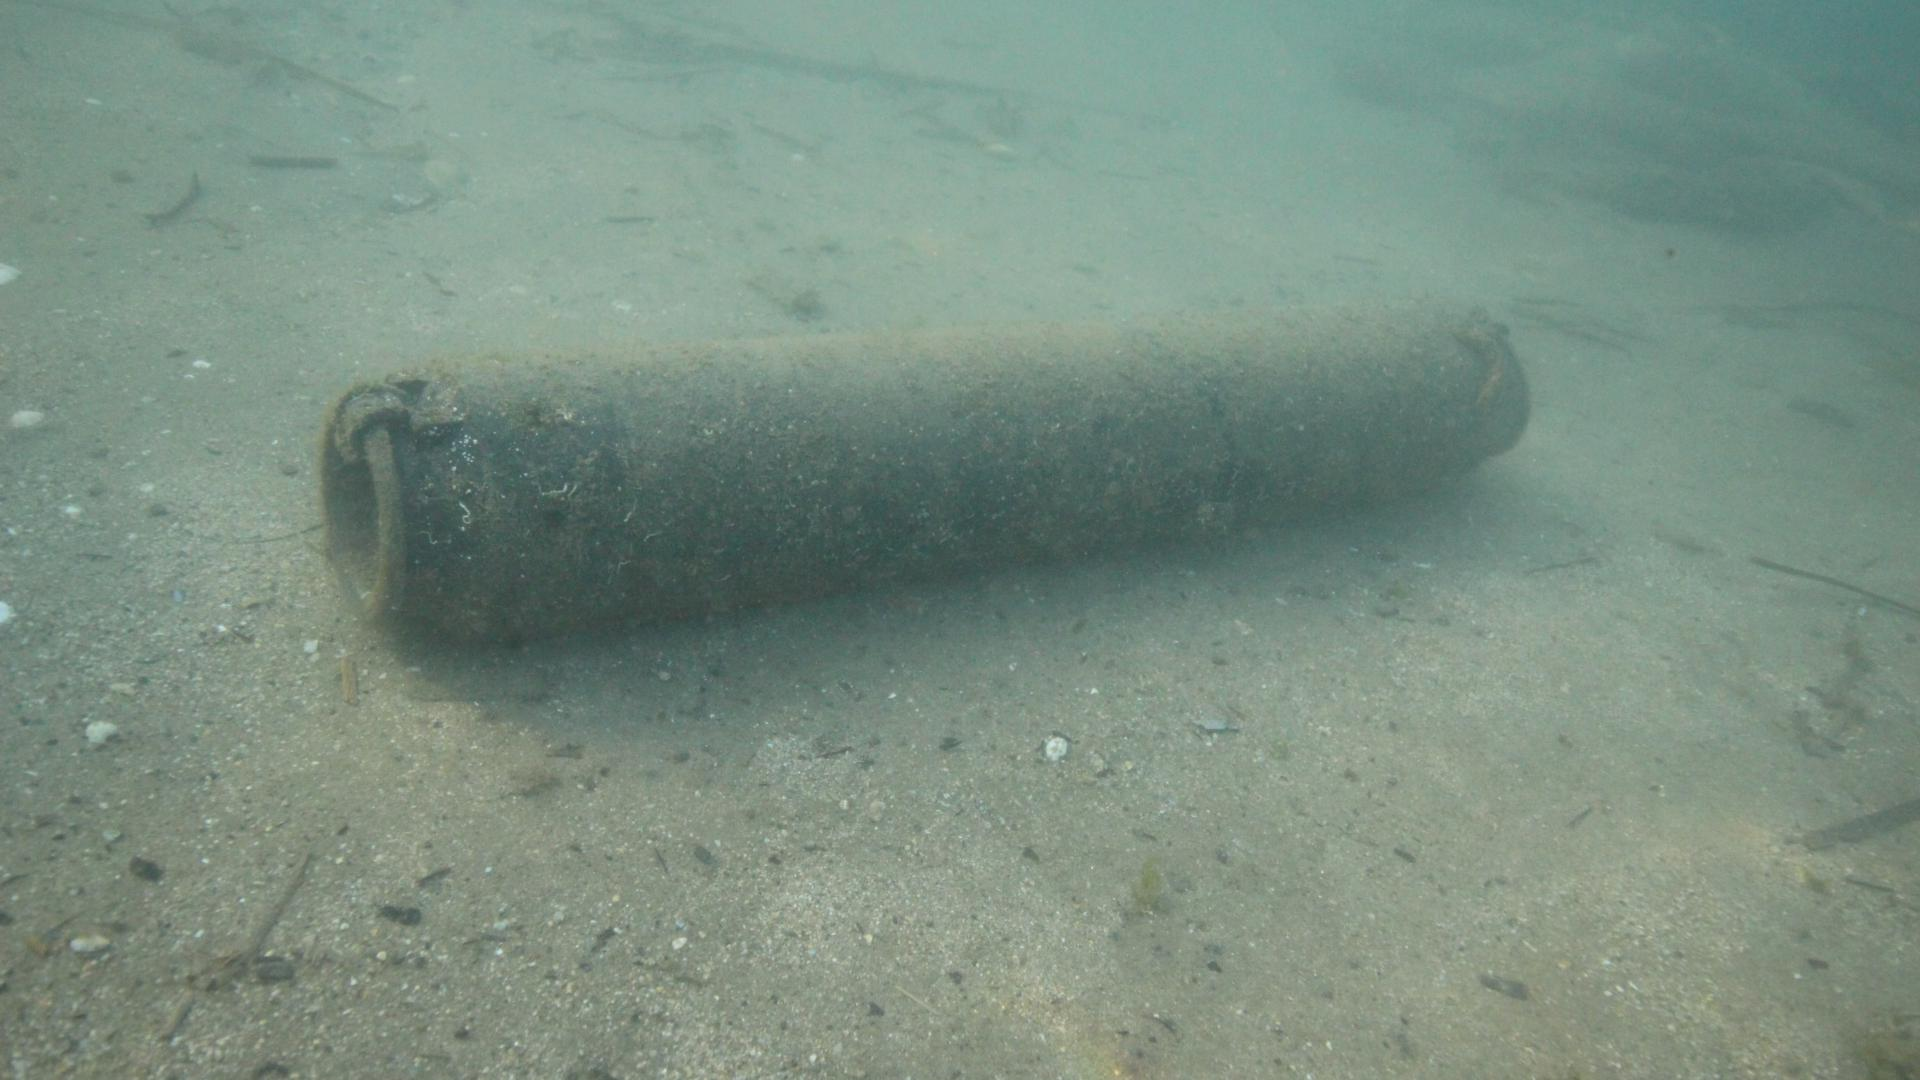eel fish trap: (316, 287, 1530, 637)
